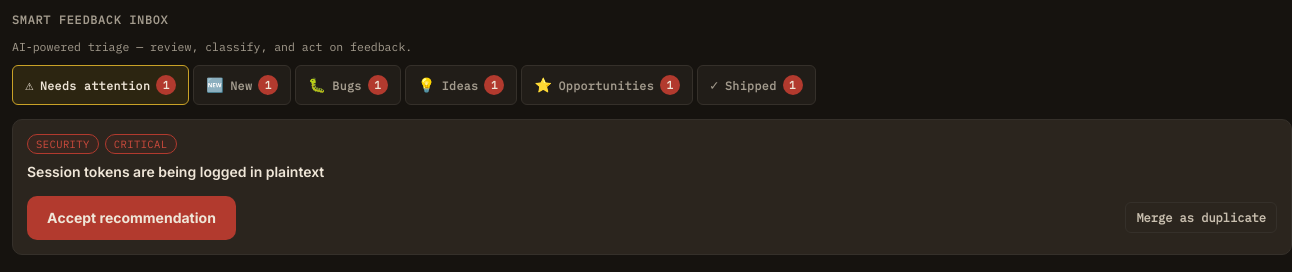
Test case: SmartFeedbackInbox — queue states › switches queue when a different tab is clicked
Expected: the text "Session tokens are being logged in plaintext" is shown, [27, 163, 324, 180]
Click the tab "⭐ Opportunities 1": click(607, 85) [522, 65, 693, 105]
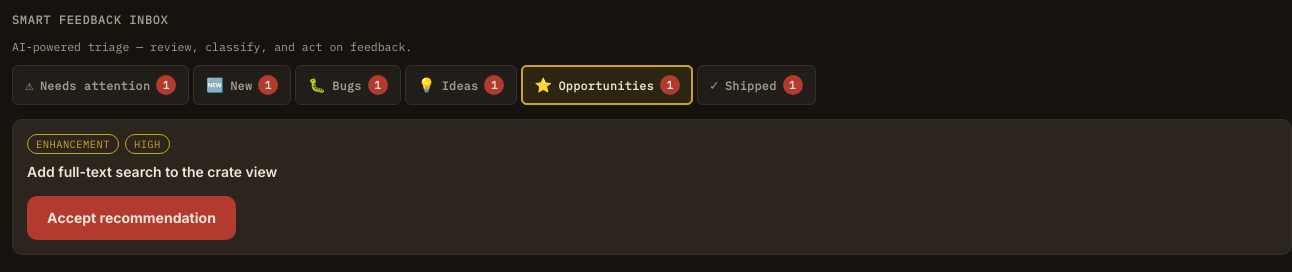
Now the text "Add full-text search to the crate view" is shown, box [27, 163, 277, 180]
Now the text "Session tokens are being logged" is gone
